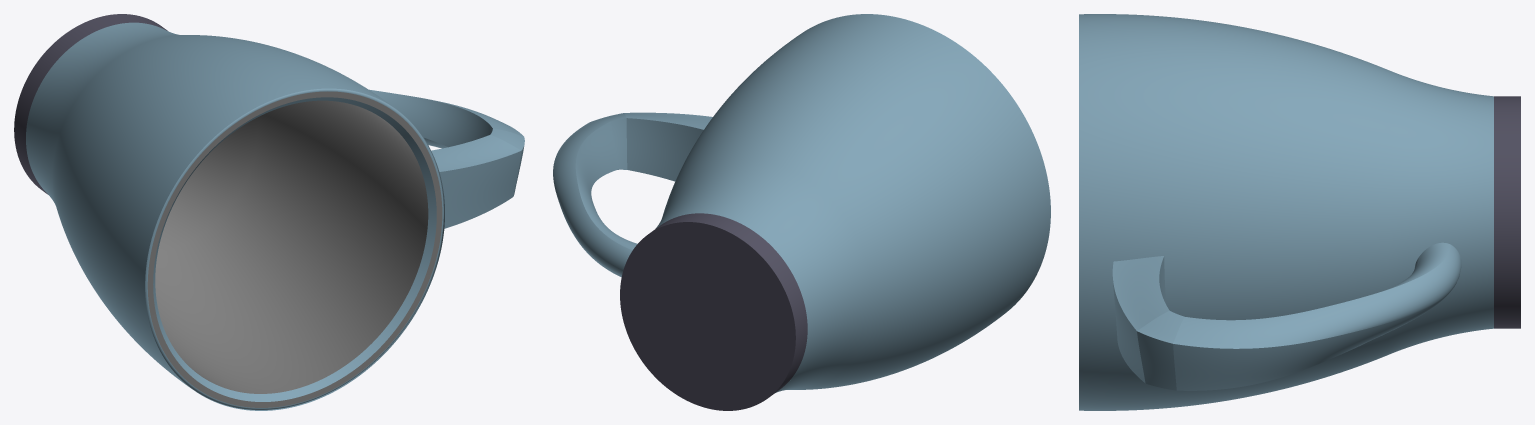
The model's file is cup.obj.
The picture shows the model from 3 angles, left to right: view 1: azimuth 30°, elevation 25°; view 2: azimuth 150°, elevation 25°; view 3: azimuth 270°, elevation 25°; orthographic projection. The views are drawn at different scales.
Parts seen in each view (by area): view 1: mesh_2_Part_1-1, mesh_1_02___PRT_ALL_AXES-1, mesh_3_Surface-Imported1_face; view 2: mesh_1_02___PRT_ALL_AXES-1, mesh_3_Surface-Imported1_face; view 3: mesh_1_02___PRT_ALL_AXES-1, mesh_3_Surface-Imported1_face.
Part boxes in pixels (left/top/right/bottom): mesh_2_Part_1-1: left=147, top=91, right=442, bottom=407; mesh_1_02___PRT_ALL_AXES-1: left=26, top=22, right=524, bottom=410; mesh_3_Surface-Imported1_face: left=14, top=14, right=167, bottom=194; mesh_1_02___PRT_ALL_AXES-1: left=553, top=14, right=1050, bottom=392; mesh_3_Surface-Imported1_face: left=620, top=213, right=807, bottom=410; mesh_1_02___PRT_ALL_AXES-1: left=1079, top=14, right=1493, bottom=410; mesh_3_Surface-Imported1_face: left=1494, top=96, right=1520, bottom=328.
Size of the model in its own units: 0.1576 by 0.1119 by 0.1245.
